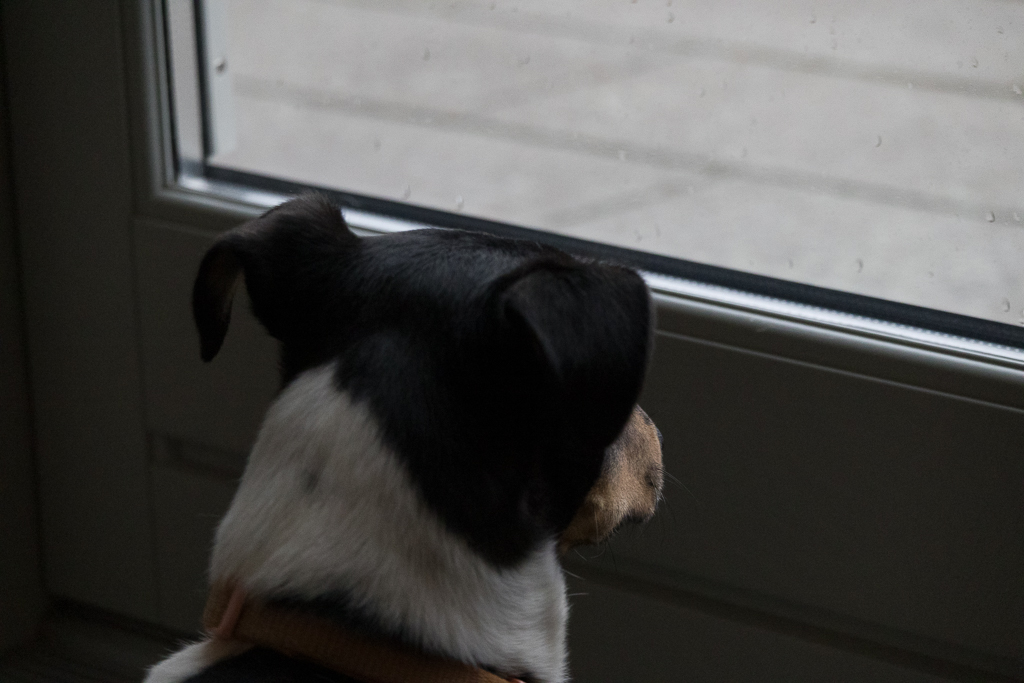Dog: (133, 182, 710, 683)
